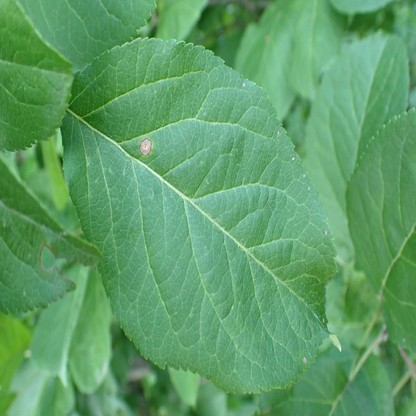frogeye_leaf_spot: (139, 137, 151, 156)
